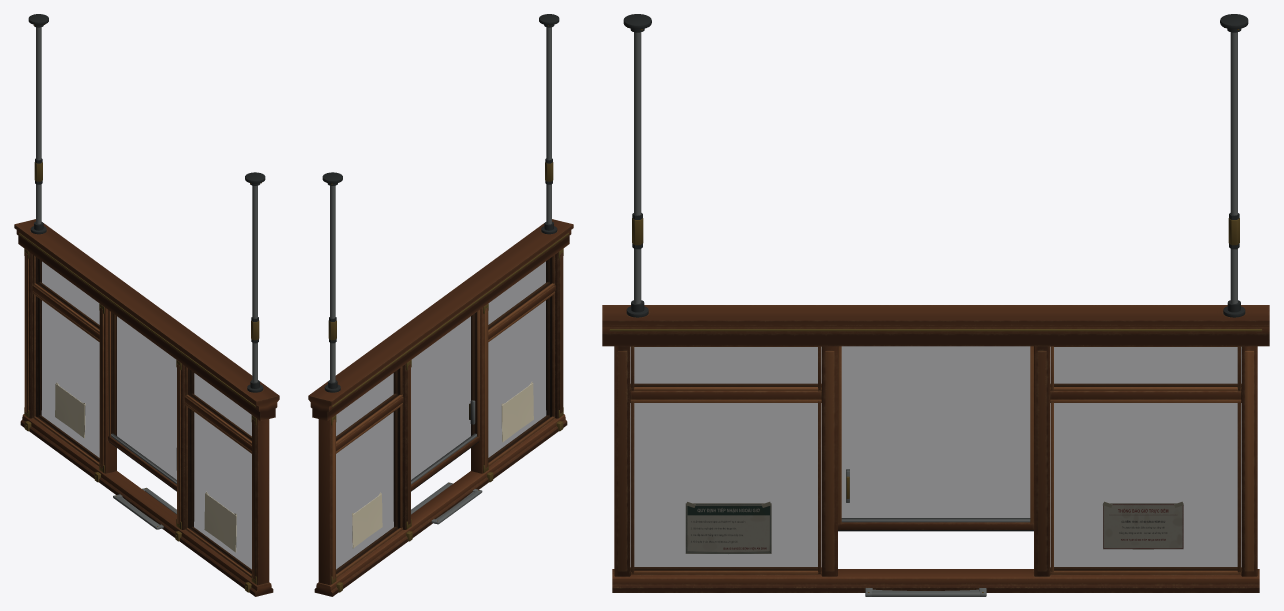
The model's file is CTCC_ENV_ReceptionPartition.fbx.
The picture shows the model from 3 angles, left to right: view 1: azimuth 30°, elevation 25°; view 2: azimuth 150°, elevation 25°; view 3: azimuth 270°, elevation 25°; orthographic projection. The views are drawn at different scales.
Visible parts, largest first — view 1: CTCC_ENV_ReceptionPartition_LOD0; view 2: CTCC_ENV_ReceptionPartition_LOD0; view 3: CTCC_ENV_ReceptionPartition_LOD0.
Boxes of the visible parts, x1,y1,x2,y2 form: CTCC_ENV_ReceptionPartition_LOD0: (14, 14, 279, 596); CTCC_ENV_ReceptionPartition_LOD0: (308, 14, 573, 596); CTCC_ENV_ReceptionPartition_LOD0: (602, 14, 1269, 596).
Size of what is drawn, in the model's own units: 0.215 by 2.48 by 2.64.
